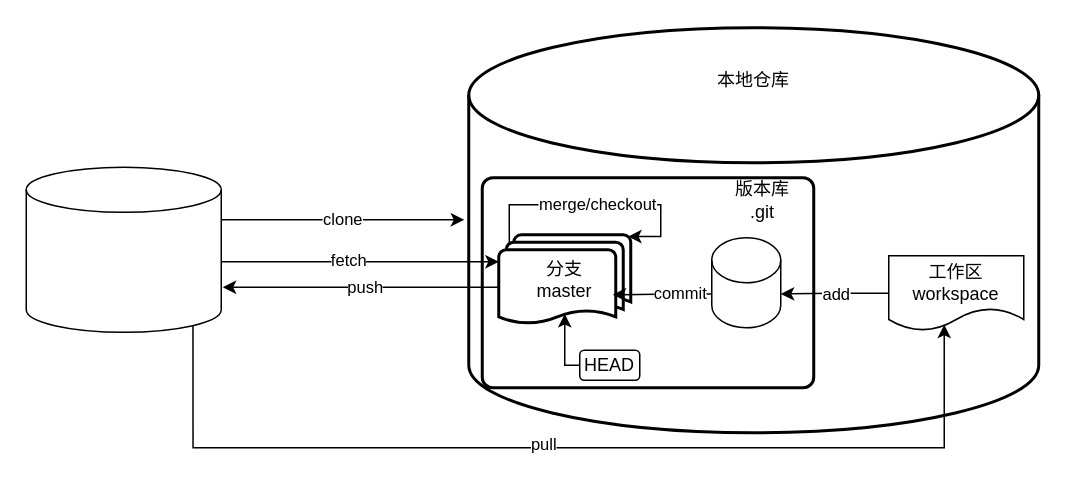
The diagram is 1067 pixels wide and 486 high, and some of its shapes have lost their labels. The centre of each missing label's shape, as x and y in pixels:
暂存区index: point 745,282
远程仓库origin: point 123,249
